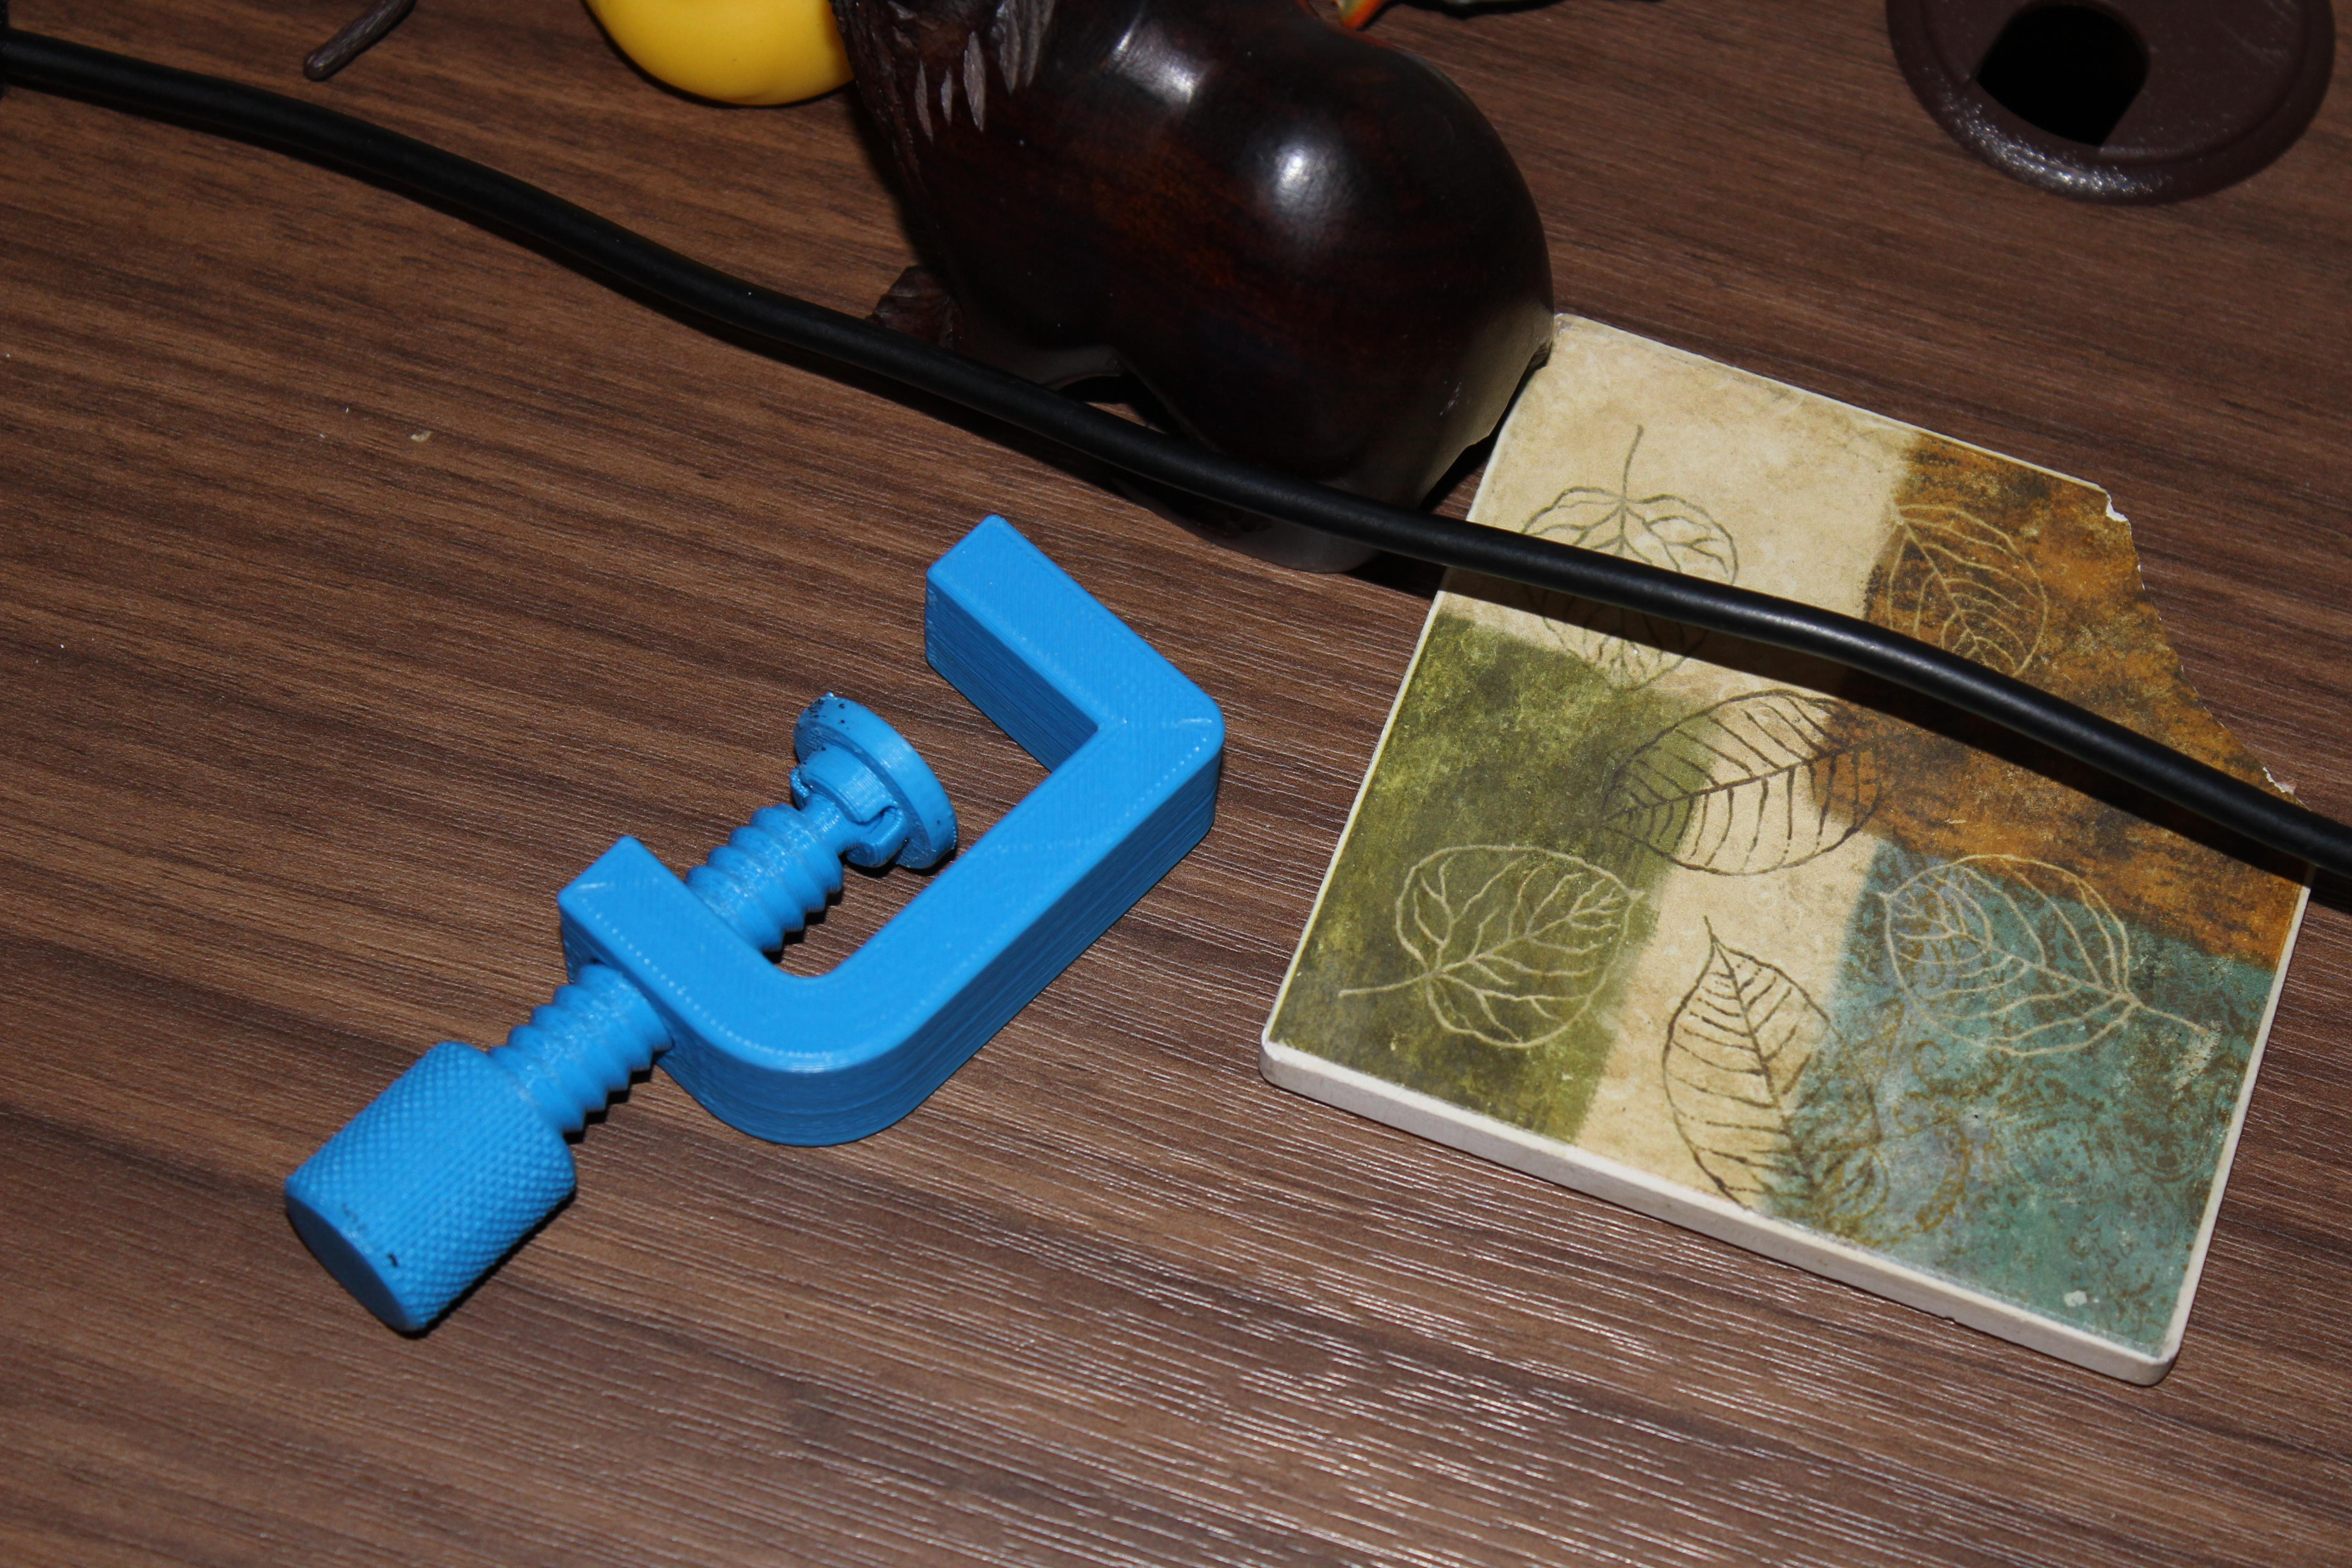gClamp: (252, 499, 1246, 1365)
